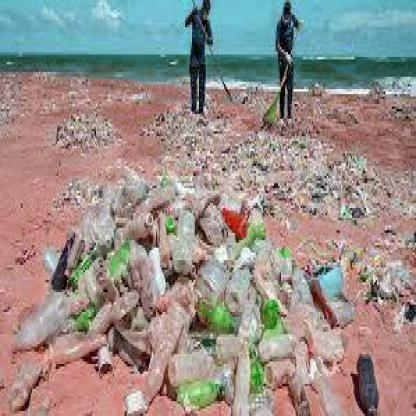Plastic: (137, 313, 188, 403), (14, 292, 69, 350), (51, 331, 110, 364), (356, 349, 384, 416), (172, 204, 197, 275), (176, 379, 225, 408), (232, 357, 255, 416), (315, 371, 343, 416), (229, 267, 254, 315)
